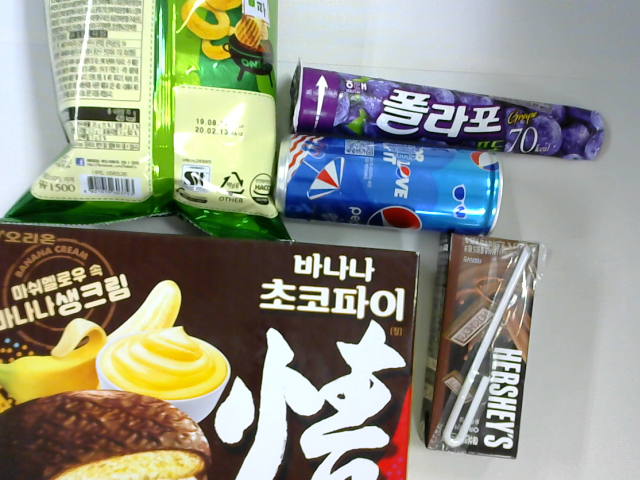Choco_Pie_Banana: (1, 228, 418, 480)
Grilled_Onions: (2, 1, 292, 243)
Hush_Choco_Drink: (420, 234, 547, 460)
Pepsi_Cola_Can_250ml: (273, 134, 506, 236)
